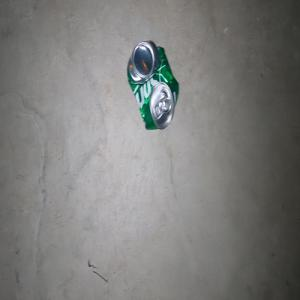SodaCan: (126, 39, 178, 130)
